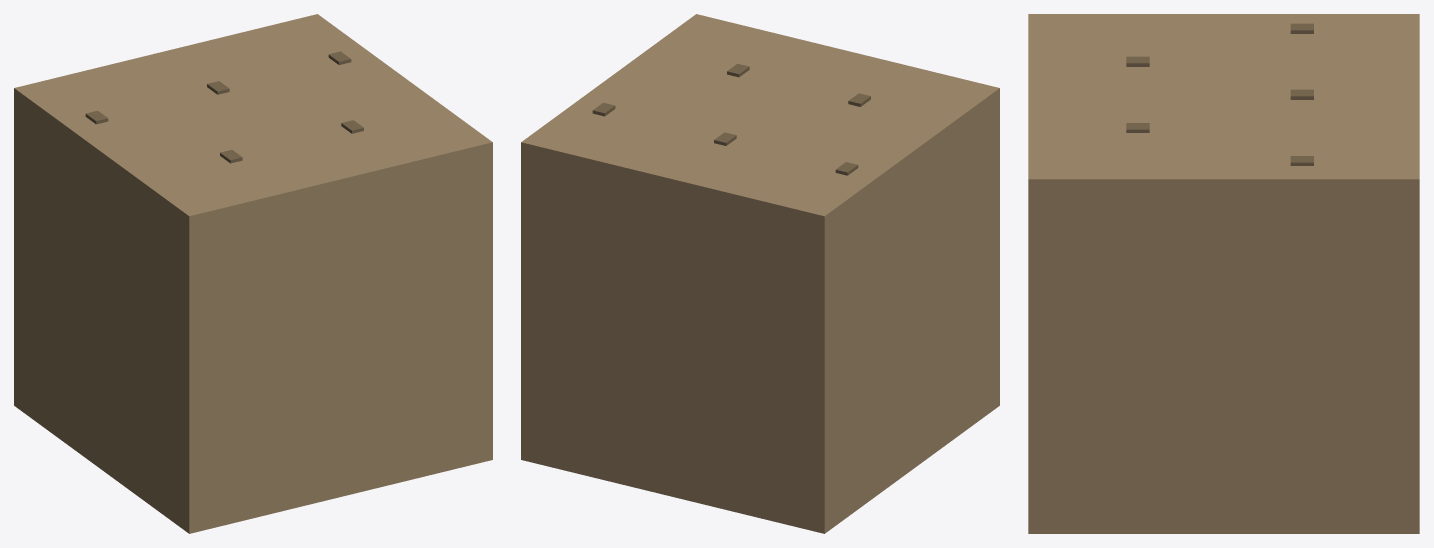
Rendered from 53_whisperwood.glb.
3 views of the same model, side by side, from view 1: azimuth 30°, elevation 25°; view 2: azimuth 150°, elevation 25°; view 3: azimuth 270°, elevation 25° (orthographic). The views are drawn at different scales.
Visible parts, largest first — view 1: Core; view 2: Core; view 3: Core.
Boxes of the visible parts, bbox=[...] form: Core: bbox=[14, 14, 492, 533]; Core: bbox=[521, 14, 999, 533]; Core: bbox=[1028, 14, 1419, 533].
Bounding box in the file's own units: 1 × 1.02 × 1.
